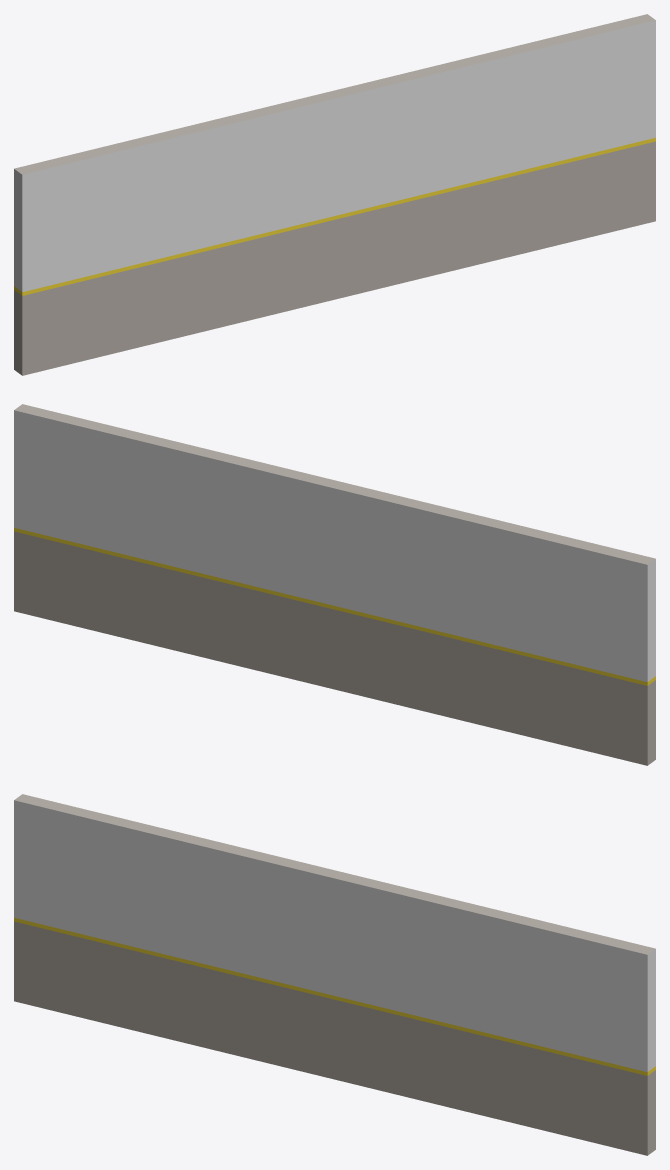
The model's file is CvsRR_LongWall.fbx.
3 views of the same model, one above another, from view 1: azimuth 30°, elevation 25°; view 2: azimuth 150°, elevation 25°; view 3: azimuth 330°, elevation 25° (orthographic).
Visible parts, largest first — view 1: CvsRR_LongWall; view 2: CvsRR_LongWall; view 3: CvsRR_LongWall.
Boxes of the visible parts, x1,y1,x2,y2 form: CvsRR_LongWall: (14,14,655,375); CvsRR_LongWall: (14,404,655,765); CvsRR_LongWall: (14,794,655,1155).
Bounding box in the file's own units: 15 × 4.55 × 0.3469.
